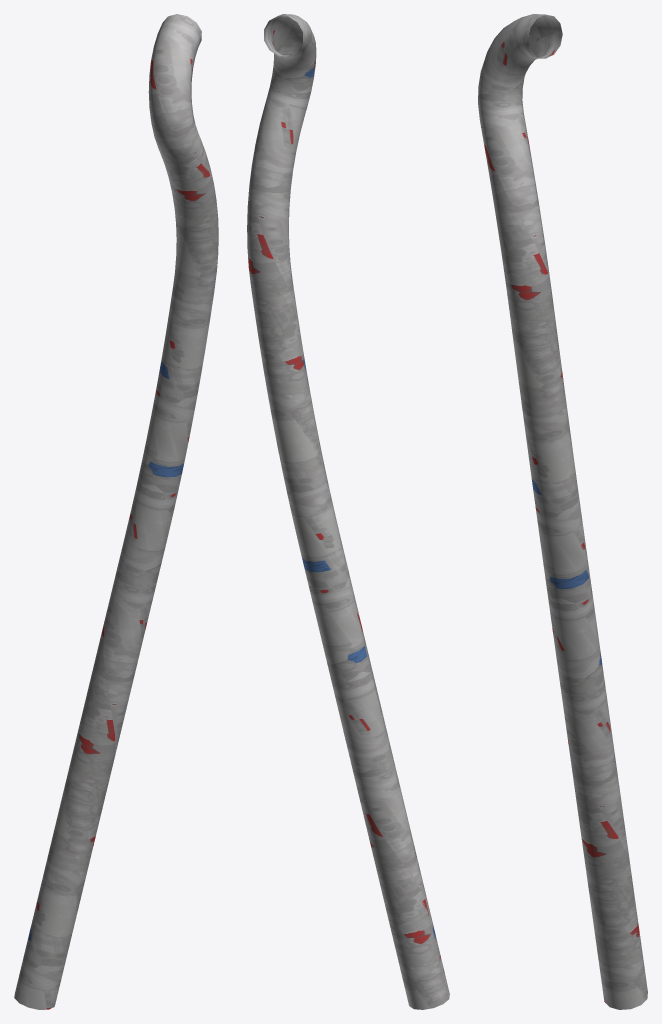
The model's file is Pipe__25.fbx.
3 renders of one model, left to right at view 1: azimuth 30°, elevation 25°; view 2: azimuth 210°, elevation 25°; view 3: azimuth 270°, elevation 25°, orthographic. The views are drawn at different scales.
Visible parts, largest first — view 1: MAT_Pipe_01; view 2: MAT_Pipe_01; view 3: MAT_Pipe_01.
Part boxes in pixels (x1=…): MAT_Pipe_01: x1=14, y1=14, x2=218, y2=1009; MAT_Pipe_01: x1=247, y1=14, x2=449, y2=1009; MAT_Pipe_01: x1=478, y1=14, x2=647, y2=1009.
Bounding box in the file's own units: 3.24 × 20.41 × 3.02.
Materials: 1 (1 with a texture image).
